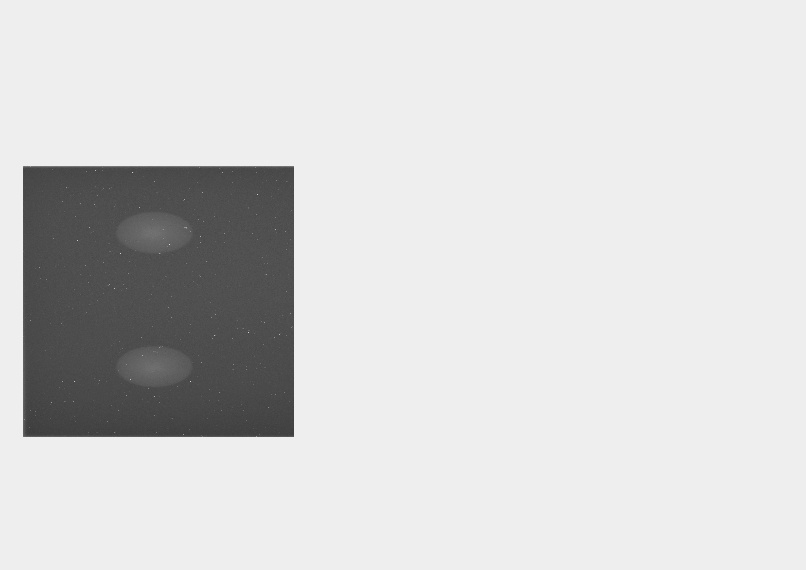bubble: (116, 212, 193, 253), (116, 346, 193, 387)
